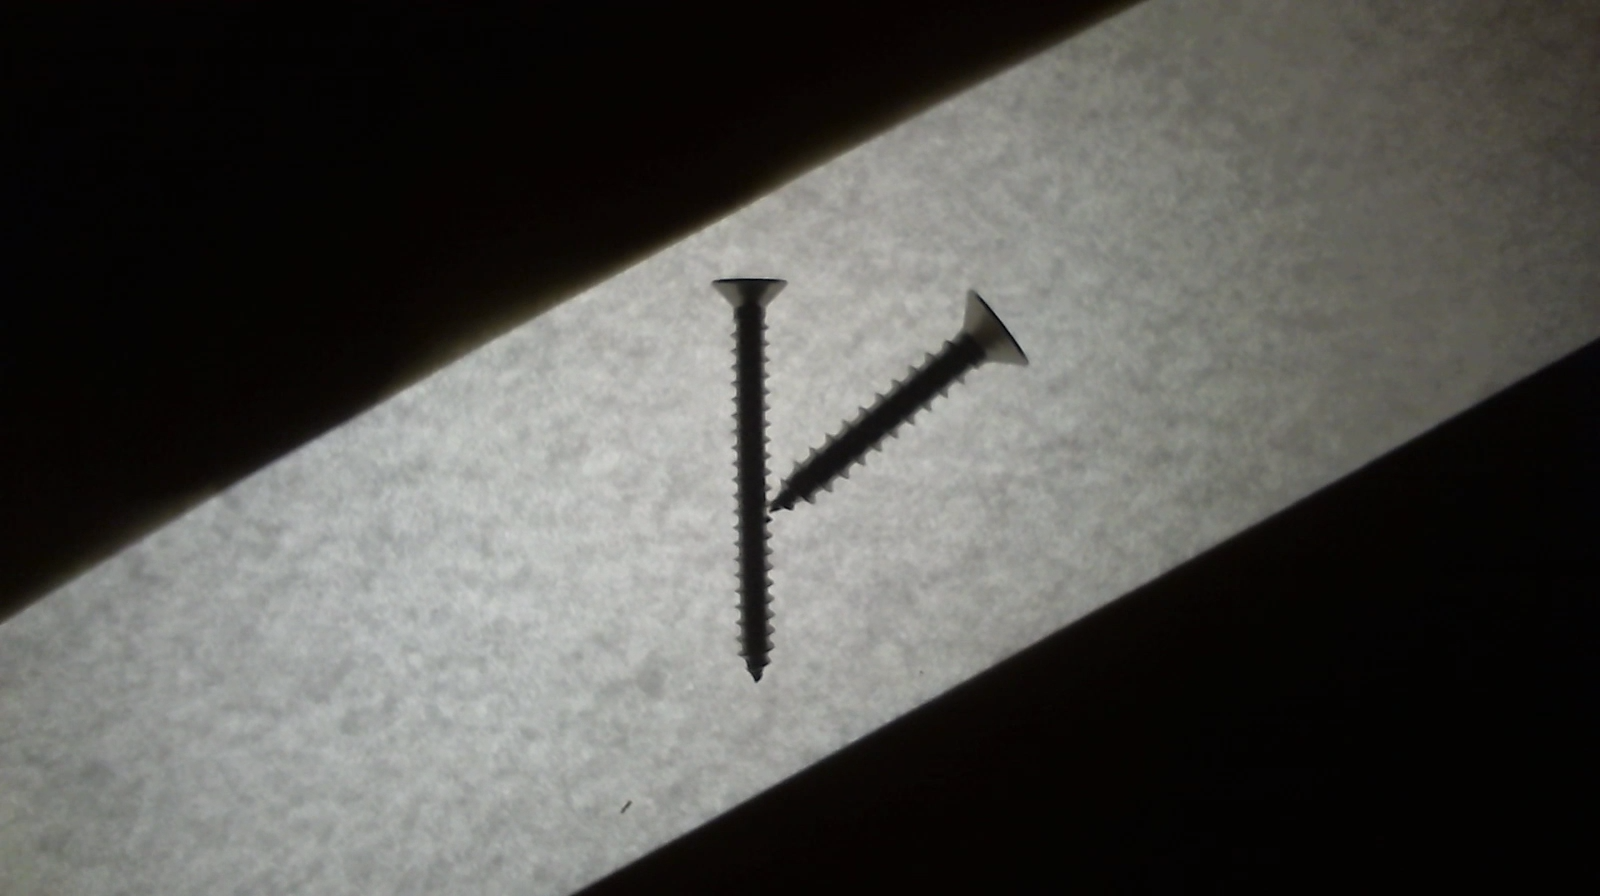S001: (776, 277, 1035, 528)
S002: (707, 259, 796, 692)
